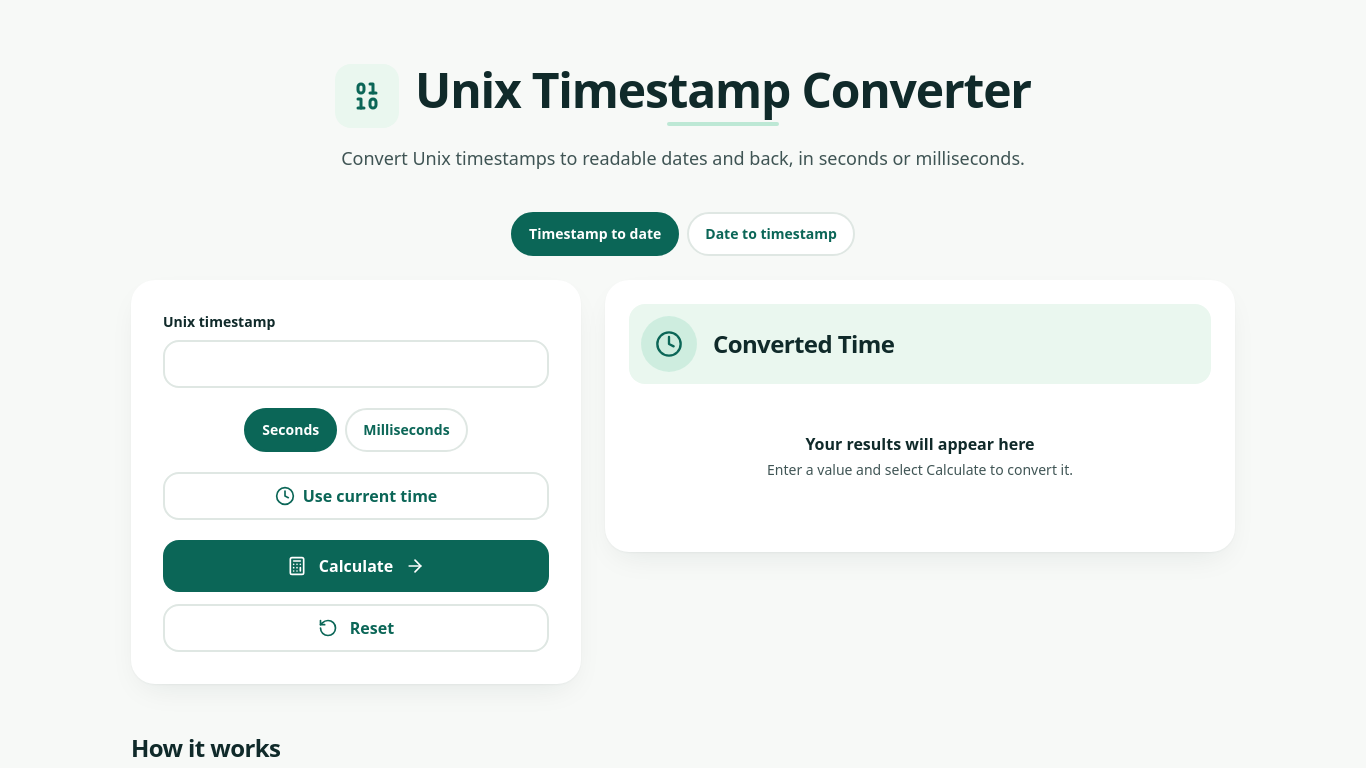
Test: Unix Timestamp Converter › clears results when the direction changes
Step 1. Type "1700000000" into the field labelled "Unix timestamp" → (356, 364), box [163,340,549,388]
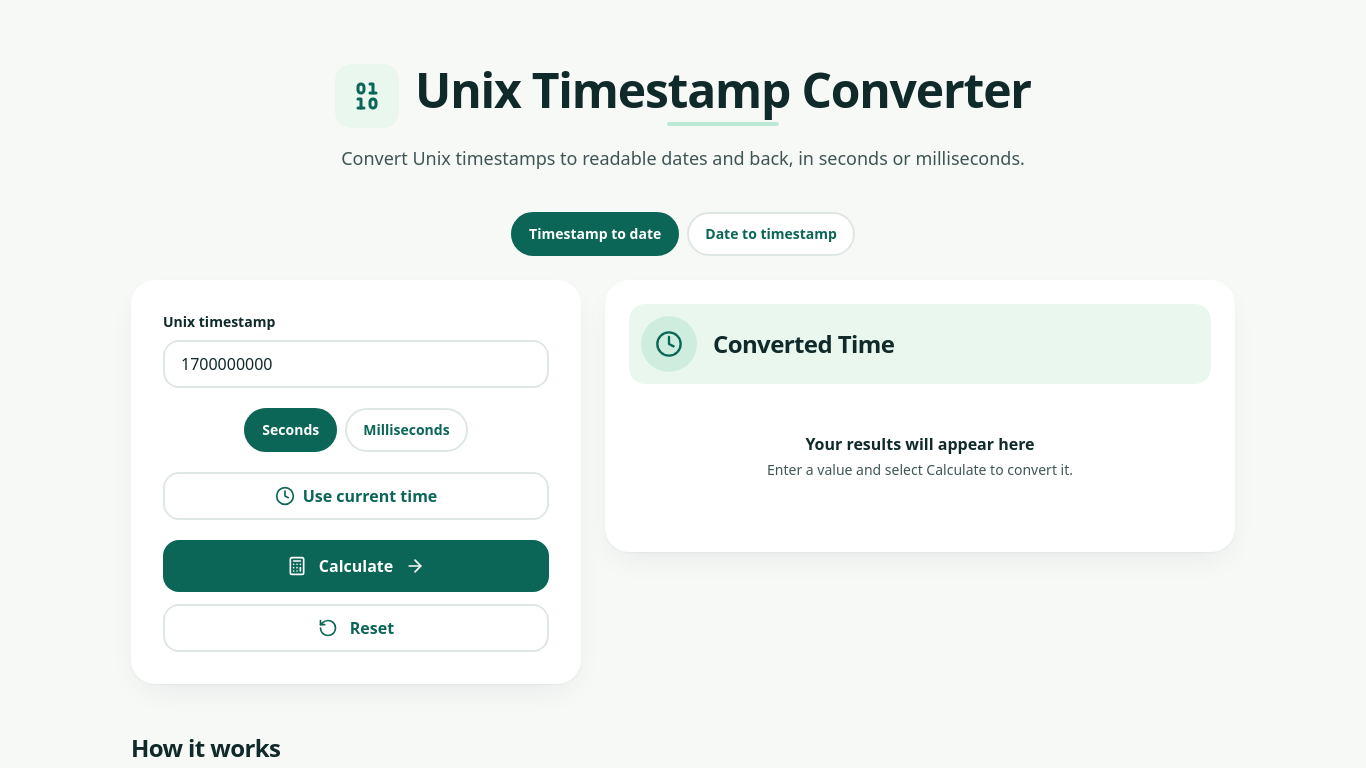
Step 2. Click the button "Calculate" → (356, 566), box [163,540,549,592]
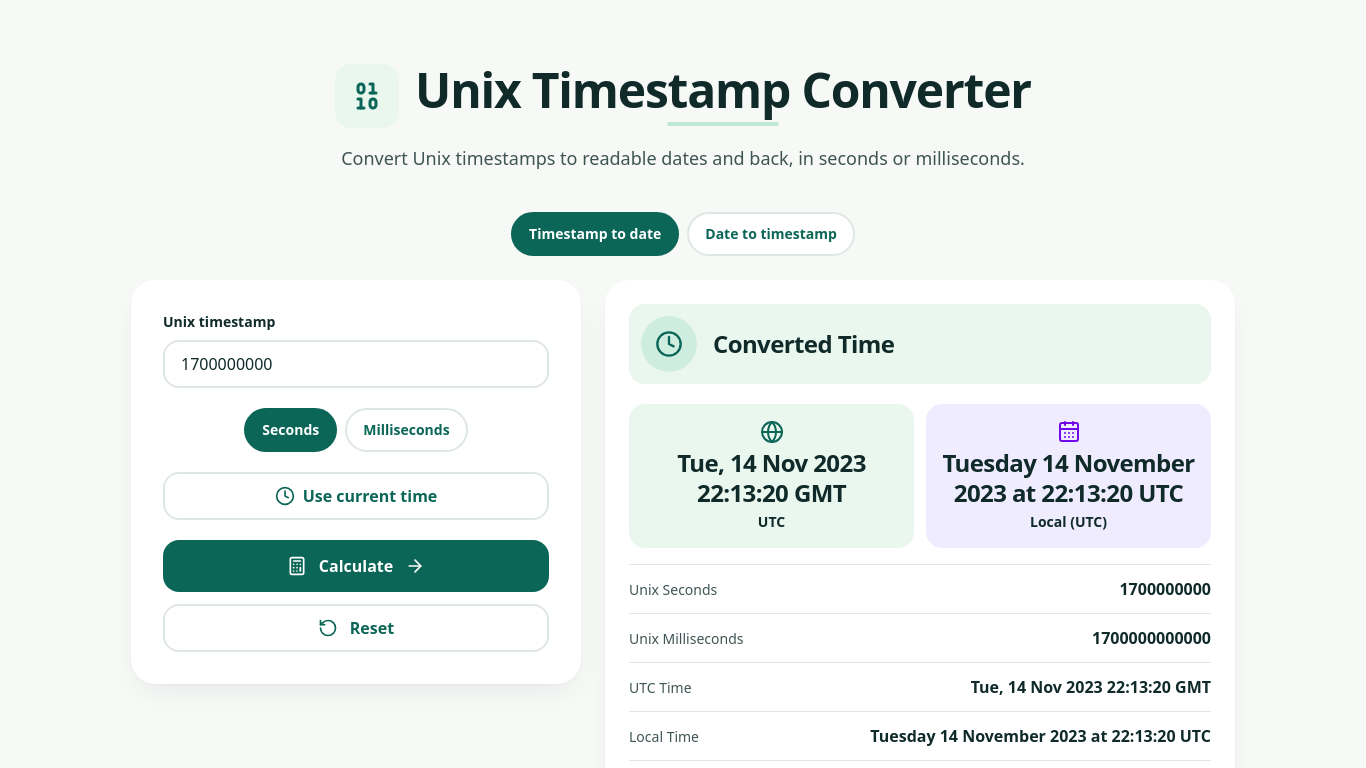
Step 3. Click the button "Date to timestamp" → (771, 234), box [687,212,855,256]
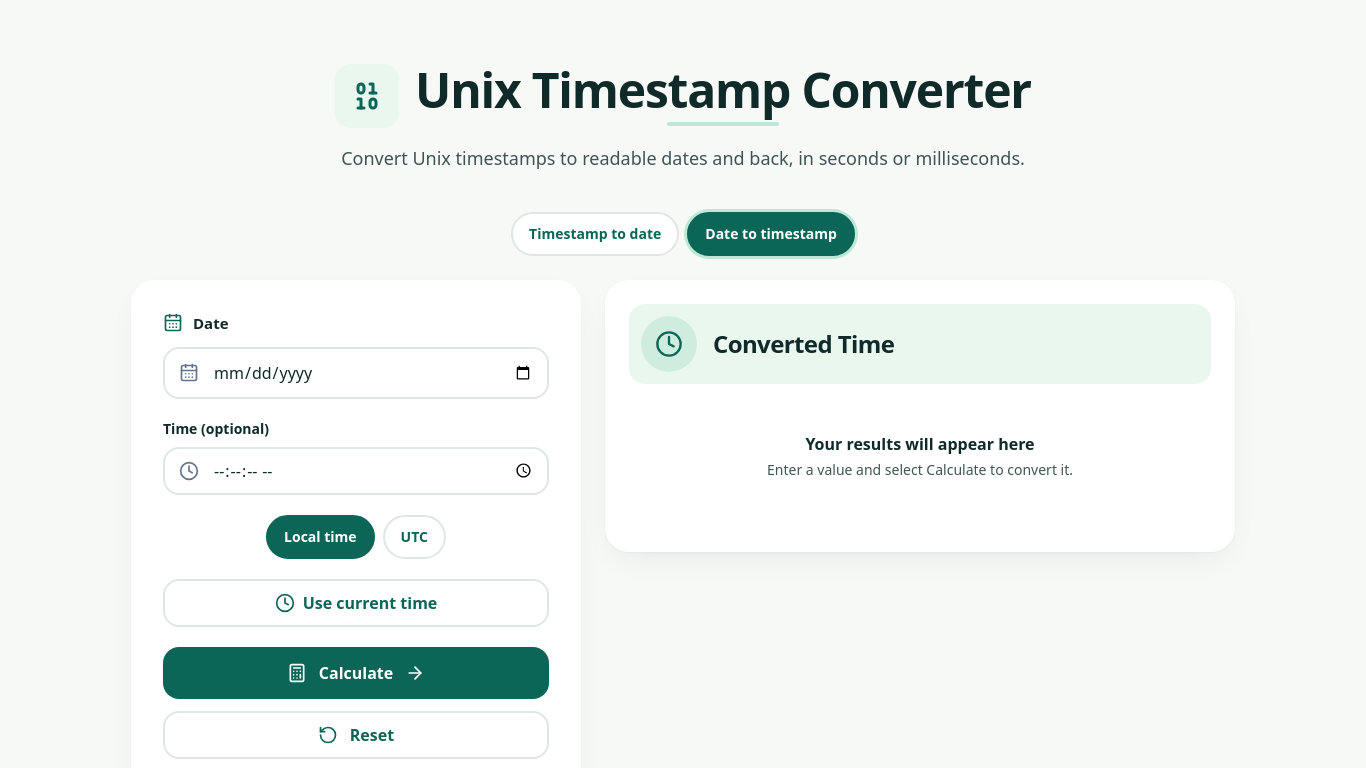
expect the text "Your results will appear here" is shown: met, box [805,433,1035,455]
